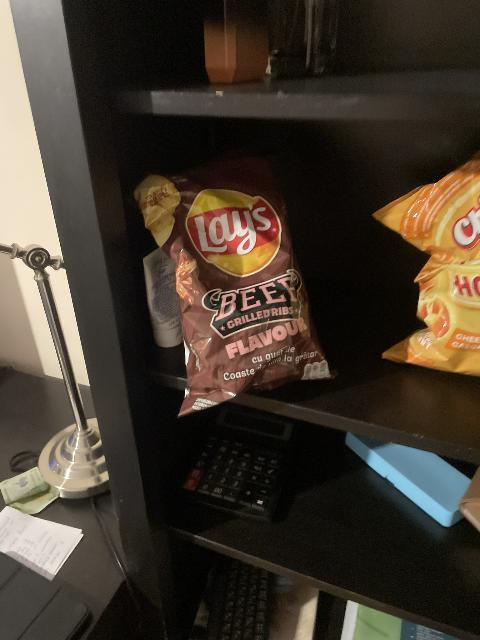Chio Cascaval 125g: (369, 142, 475, 376)
Lays Beef Grilled Ribs 125g: (140, 156, 341, 409)
